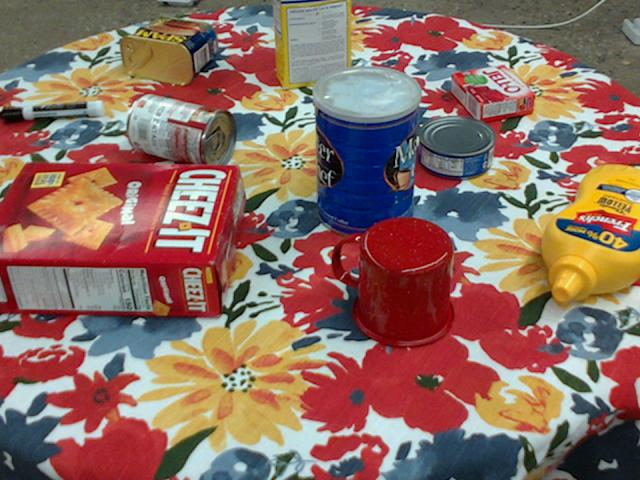cracker_box: (0, 162, 242, 317)
gelatin_box: (449, 66, 532, 123)
large_marker: (0, 99, 104, 121)
master_chef_can: (311, 66, 419, 240)
mug: (331, 216, 453, 348)
mustard_bottle: (541, 163, 639, 300)
potted_meat_can: (119, 15, 217, 83)
sugar_box: (274, 0, 351, 86)
tomato_soup_can: (125, 94, 235, 170)
tuna_fish_can: (417, 116, 495, 179)
